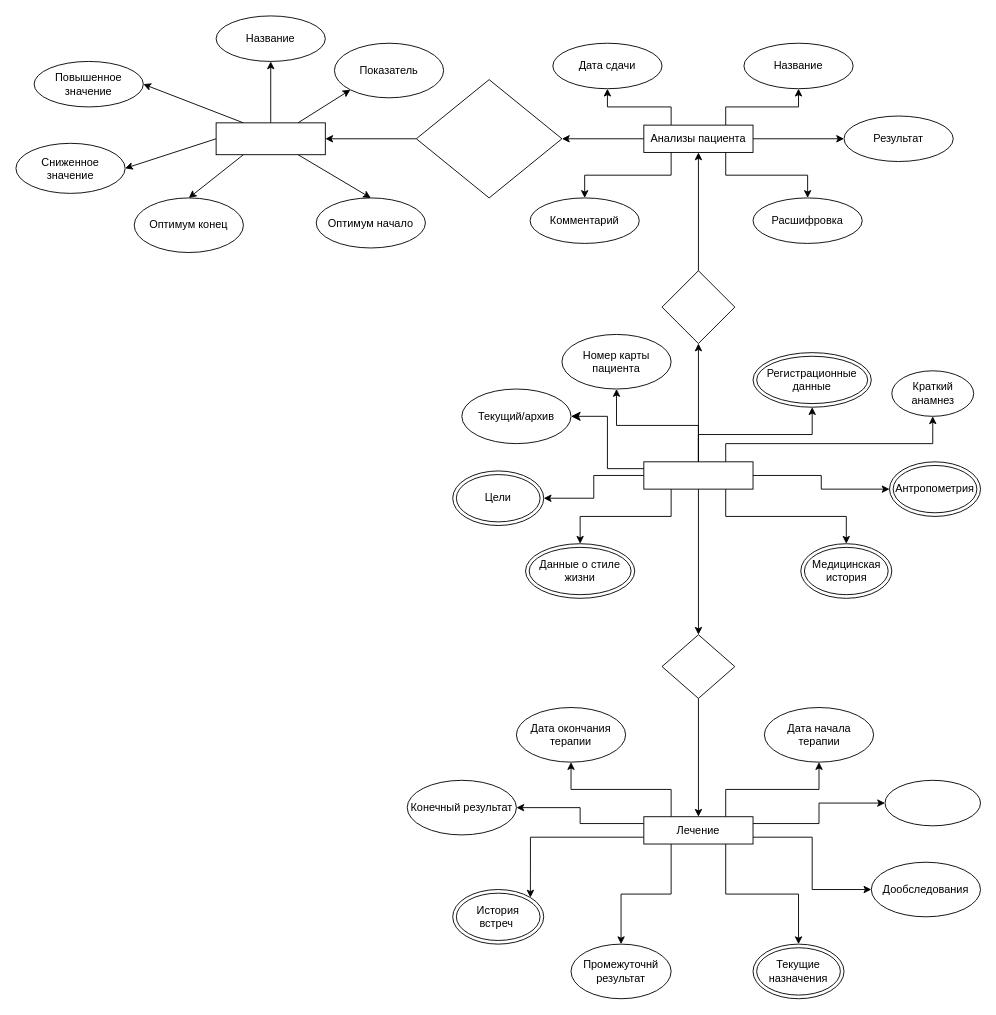
This 996x1015 diagram has some shape labels left out. The box of each missing label's shape, as (x1, y1, x2, y2) in pixels:
Анализы: (215, 122, 325, 155)
Пациенты: (643, 461, 753, 489)
Получают: (661, 634, 735, 698)
Расшифровывеются: (415, 79, 562, 198)
Рекомендации: (884, 779, 981, 826)
Сдают: (661, 270, 735, 344)
